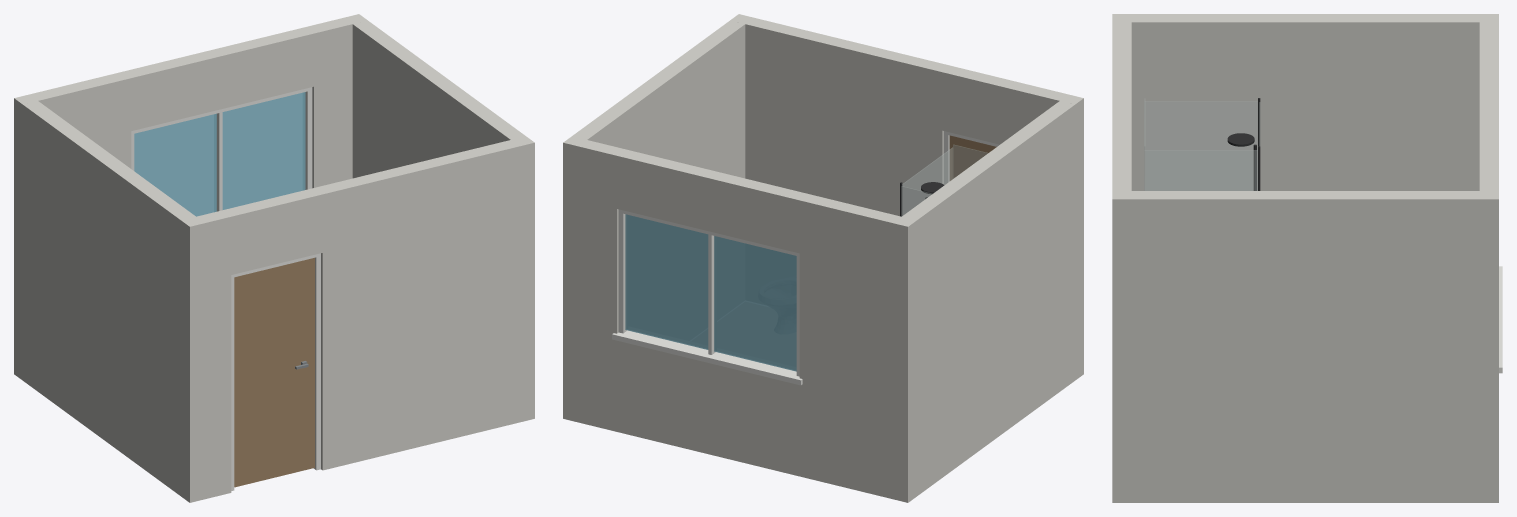
The model's file is layoutgpt.glb.
The picture shows the model from 3 angles, left to right: view 1: azimuth 30°, elevation 25°; view 2: azimuth 150°, elevation 25°; view 3: azimuth 270°, elevation 25°; orthographic projection. The views are drawn at different scales.
Visible parts, largest first — view 1: wall|scenesmith_076__R00|0, wall|scenesmith_076__R00|2, wall|scenesmith_076__R00|1, wall|scenesmith_076__R00|0 Door 0 | wood leaf, wall|scenesmith_076__R00|3, wall|scenesmith_076__R00|1 Window 0 | glazing, wall|scenesmith_076__R00|0 Door 0 | jamb, wall|scenesmith_076__R00|1 Window 0 | jamb; view 2: wall|scenesmith_076__R00|1, wall|scenesmith_076__R00|2, wall|scenesmith_076__R00|0, wall|scenesmith_076__R00|1 Window 0 | glazing, wall|scenesmith_076__R00|3, wall|scenesmith_076__R00|1 Window 0 | jamb, Rear glass, wall|scenesmith_076__R00|0 Door 0 | wood leaf; view 3: wall|scenesmith_076__R00|3, wall|scenesmith_076__R00|2, Rear glass, wall|scenesmith_076__R00|0, wall|scenesmith_076__R00|1, Rain head.
Boxes of the visible parts, x1,y1,x2,y2 form: wall|scenesmith_076__R00|0: (181, 136, 534, 502); wall|scenesmith_076__R00|2: (23, 101, 195, 502); wall|scenesmith_076__R00|1: (14, 14, 367, 380); wall|scenesmith_076__R00|0 Door 0 | wood leaf: (234, 257, 314, 487); wall|scenesmith_076__R00|3: (352, 20, 525, 178); wall|scenesmith_076__R00|1 Window 0 | glazing: (134, 92, 305, 216); wall|scenesmith_076__R00|0 Door 0 | jamb: (231, 253, 320, 490); wall|scenesmith_076__R00|1 Window 0 | jamb: (131, 87, 312, 211); wall|scenesmith_076__R00|1: (563, 136, 916, 502); wall|scenesmith_076__R00|2: (902, 98, 1083, 495); wall|scenesmith_076__R00|0: (730, 14, 1083, 216); wall|scenesmith_076__R00|1 Window 0 | glazing: (625, 214, 796, 371); wall|scenesmith_076__R00|3: (572, 20, 745, 178); wall|scenesmith_076__R00|1 Window 0 | jamb: (612, 209, 802, 385); Rear glass: (901, 145, 987, 216); wall|scenesmith_076__R00|0 Door 0 | wood leaf: (949, 135, 996, 180); wall|scenesmith_076__R00|3: (1131, 191, 1498, 502); wall|scenesmith_076__R00|2: (1131, 14, 1479, 190); Rear glass: (1144, 98, 1259, 190); wall|scenesmith_076__R00|0: (1112, 14, 1131, 502); wall|scenesmith_076__R00|1: (1479, 14, 1498, 199); Rain head: (1227, 98, 1260, 190).
Bounding box in the file's own units: 3.4 × 2.61 × 3.03.
